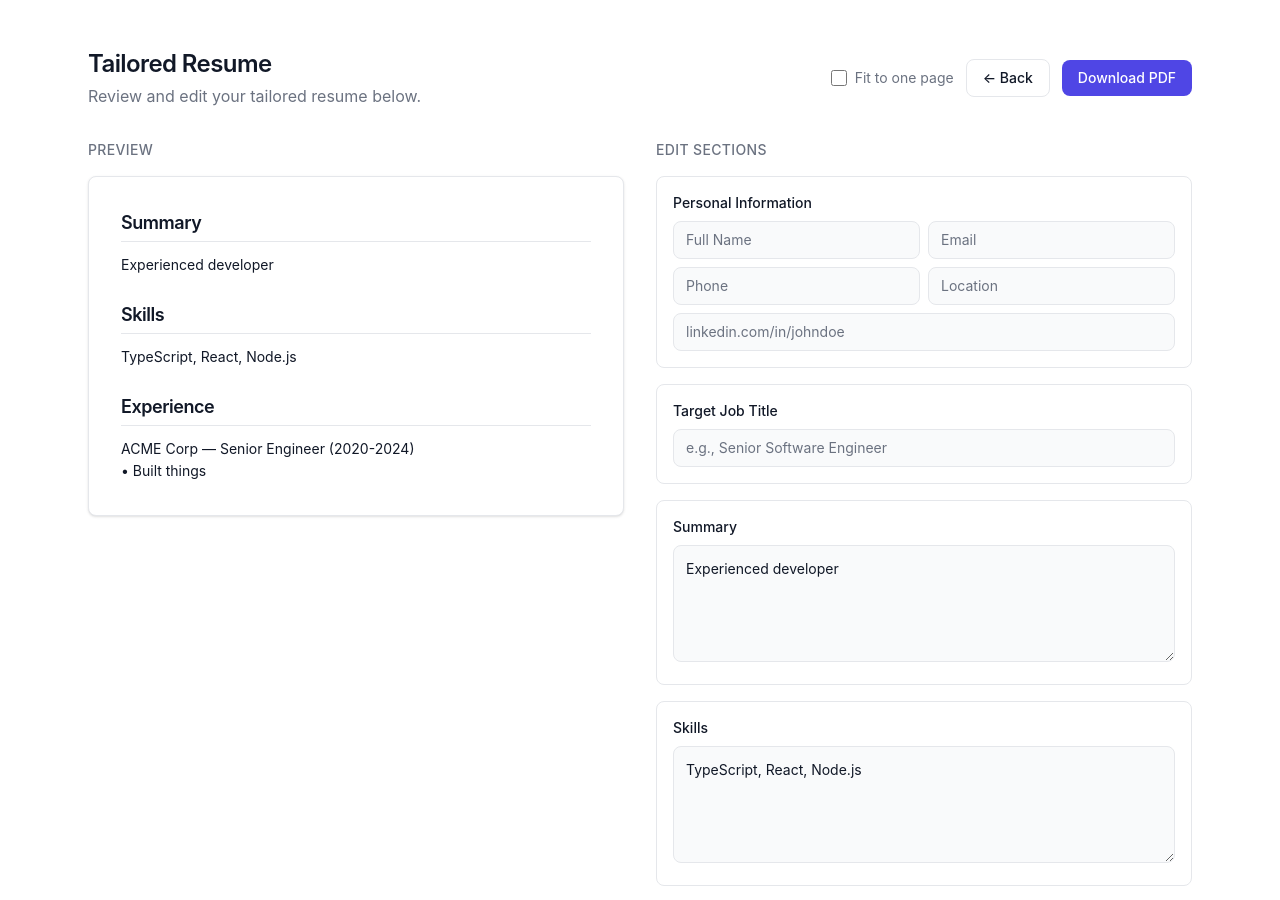
it: ResultPage › updates preview when editing personal info
Type "John Doe" into the field with placeholder "Full Name".
click(796, 240); type("John Doe")  # box [673,221,920,259]
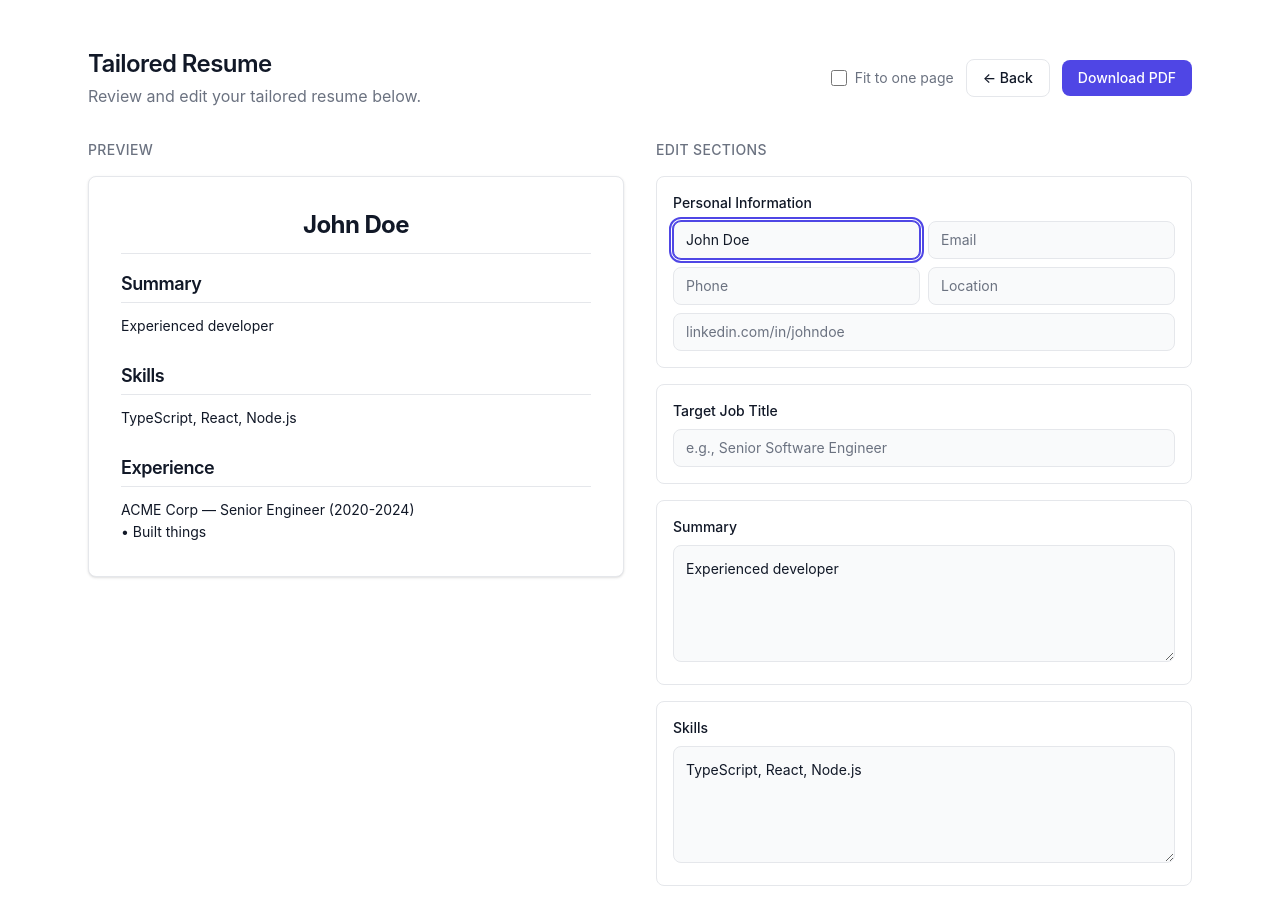
Expected: the heading "John Doe" is shown, [303,210,409,239]
